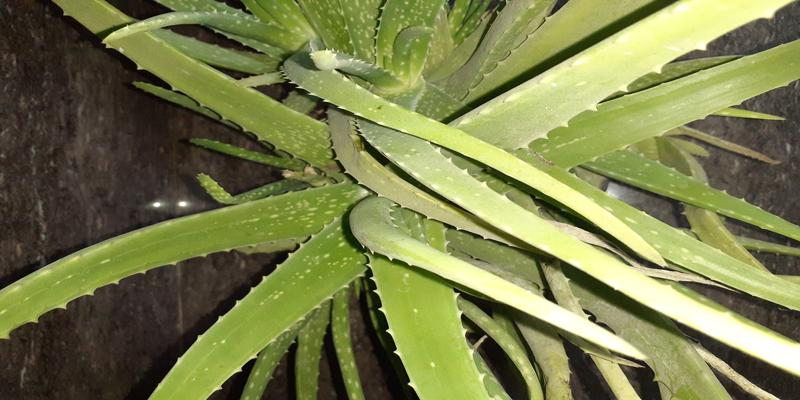Aloevera: (138, 7, 756, 379)
